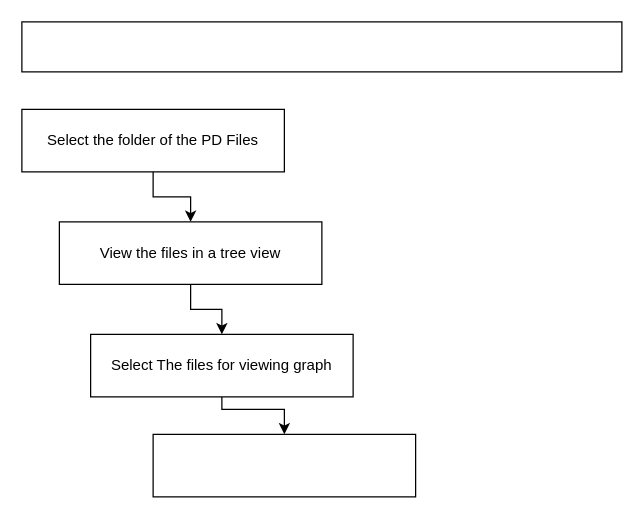
The diagram is 644 pixels wide and 519 high, and some of its shapes have lost their labels. Each missing label, with the centre of its shape:
"Python GUI Program to View PD File as Graph" belongs at (x=321, y=46).
"Vew 2 graph. Original VS Filtered" belongs at (x=284, y=465).
